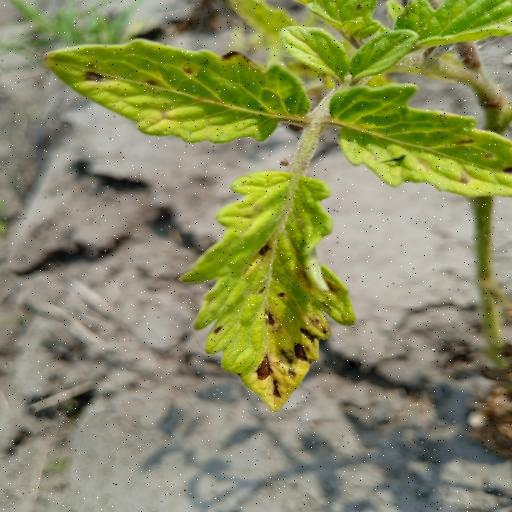Tomato_Brown_Spots: (173, 168, 357, 412), (38, 37, 315, 149), (319, 82, 512, 199)
